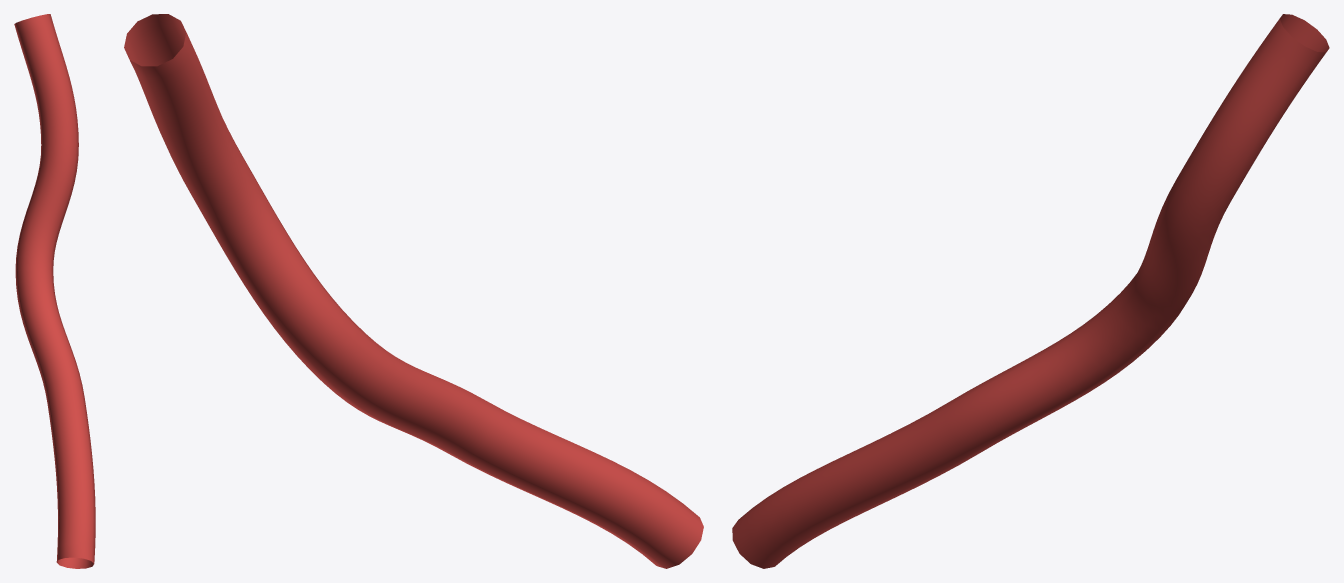
3 views of the same model, side by side, from view 1: azimuth 30°, elevation 25°; view 2: azimuth 150°, elevation 25°; view 3: azimuth 270°, elevation 25° (orthographic). The views are drawn at different scales.
Visible parts, largest first — view 1: 左侧足底深动脉; view 2: 左侧足底深动脉; view 3: 左侧足底深动脉.
Part boxes in pixels (x1=…): 左侧足底深动脉: x1=14, y1=14, x2=95, y2=568; 左侧足底深动脉: x1=124, y1=14, x2=703, y2=568; 左侧足底深动脉: x1=732, y1=14, x2=1329, y2=568.
Size of the model in its own units: 0.0132 by 0.0315 by 0.0265.
